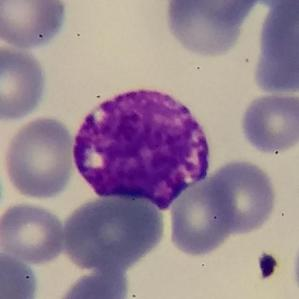Basophil: (64, 77, 217, 222), (249, 0, 299, 100)
Lymphocyte: (248, 0, 299, 99)
Platelets: (256, 251, 281, 281)
RBC: (62, 189, 168, 275), (0, 114, 77, 201), (202, 156, 280, 238), (165, 176, 237, 258), (162, 0, 250, 59), (249, 4, 299, 98), (0, 199, 68, 265), (0, 44, 50, 123), (238, 91, 298, 156), (0, 0, 69, 50), (54, 266, 134, 299), (0, 249, 41, 299), (290, 227, 299, 298), (0, 144, 7, 226)
